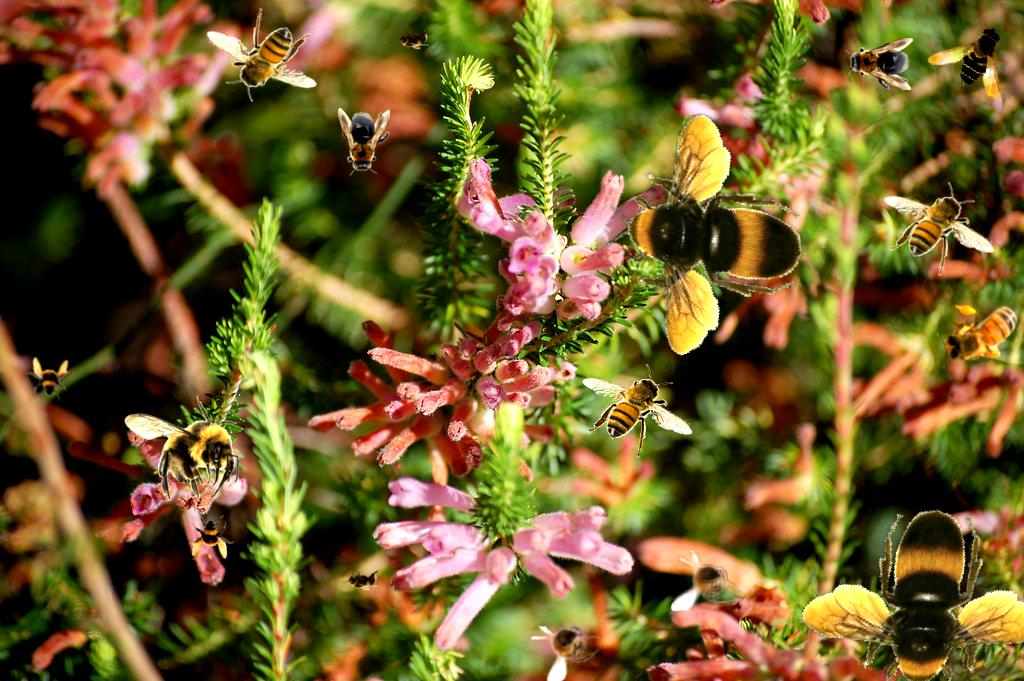Bee: (574, 92, 832, 367), (778, 478, 1024, 681), (124, 395, 239, 502), (921, 20, 1024, 132), (206, 8, 317, 102), (582, 364, 693, 458), (884, 182, 995, 276), (520, 601, 611, 681), (937, 301, 1024, 369), (671, 550, 741, 611), (845, 38, 913, 90), (338, 108, 390, 176), (190, 515, 234, 559), (26, 357, 70, 401), (342, 569, 382, 591), (393, 28, 433, 50)
